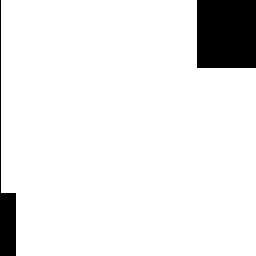rumex: (1, 0, 196, 192), (16, 193, 256, 256), (197, 68, 256, 196)
